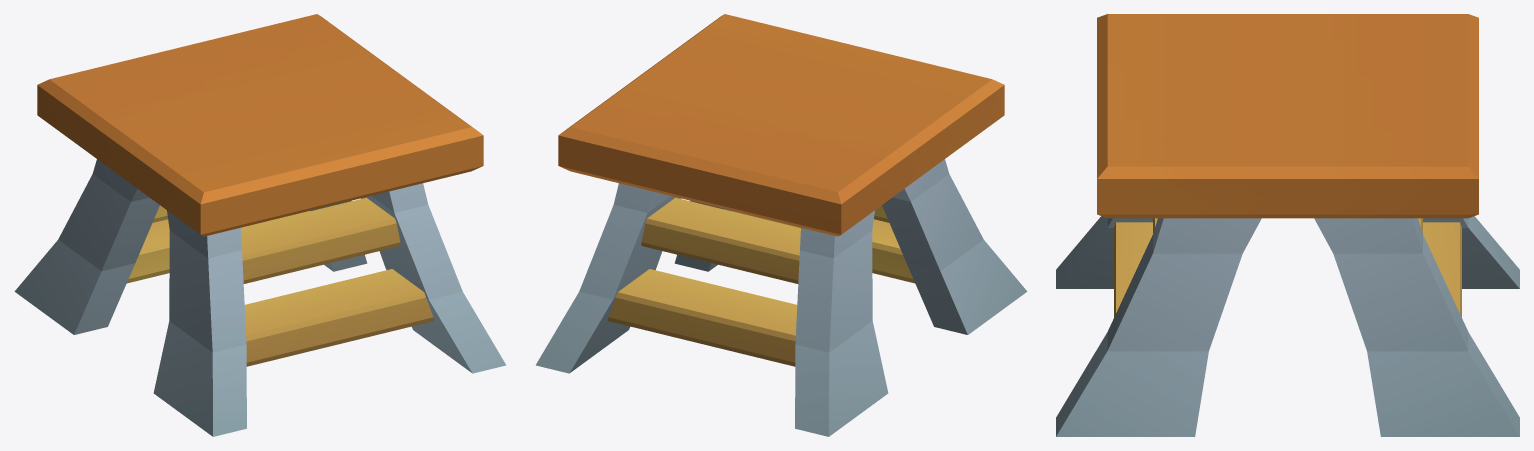
File: sp_night_table_bedroom_a.fbx
3 renders of one model, left to right at view 1: azimuth 30°, elevation 25°; view 2: azimuth 150°, elevation 25°; view 3: azimuth 270°, elevation 25°, orthographic. The views are drawn at different scales.
Parts seen in each view (by area): view 1: sp_night_table_bedroom_a; view 2: sp_night_table_bedroom_a; view 3: sp_night_table_bedroom_a.
Boxes of the visible parts, x1,y1,x2,y2 form: sp_night_table_bedroom_a: (14, 14, 505, 436); sp_night_table_bedroom_a: (536, 14, 1027, 436); sp_night_table_bedroom_a: (1056, 14, 1519, 436).
Size of the model in its own units: 32.7 by 23.99 by 38.35.
